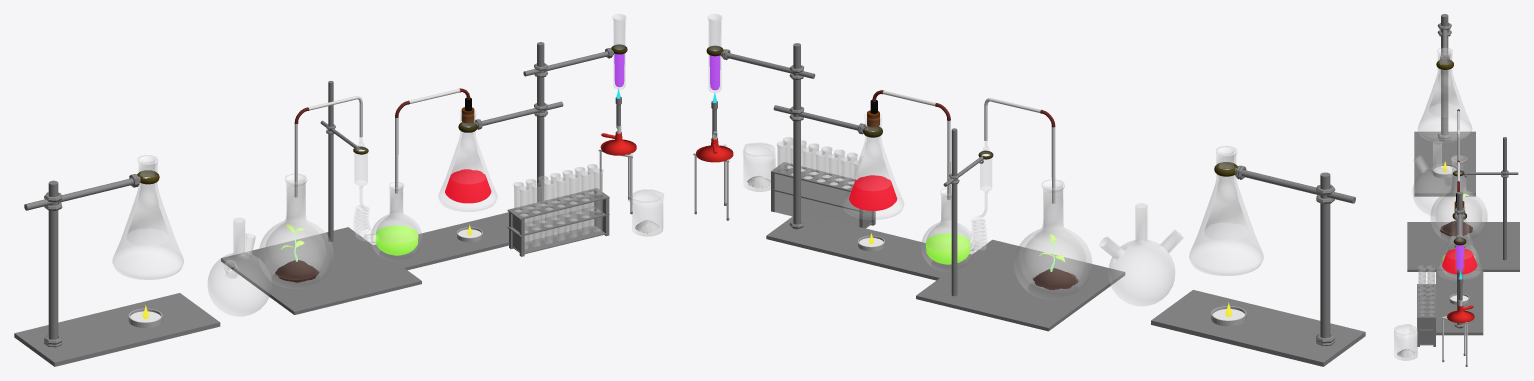
File: Stand.glb
3 views of the same model, side by side, from view 1: azimuth 30°, elevation 25°; view 2: azimuth 150°, elevation 25°; view 3: azimuth 270°, elevation 25° (orthographic). The views are drawn at different scales.
Visible parts, largest first — view 1: Cube.001_54, Cube_55, Sphere.001_31, Cylinder.005_46, Cylinder_50, Sphere.002_30, Cube.002_53, Cube.096_51, Cylinder.134_35, Sphere.006_26, Cylinder.006_45, Cylinder.001_49 (+10 smaller); view 2: Cube.001_54, Cube_55, Sphere.001_31, Cylinder.005_46, Cube.096_51, Sphere.002_30, Cylinder.134_35, Cube.006_52, Sphere.006_26, Cylinder.001_49, Cylinder.006_45, Cylinder.010_41 (+10 smaller); view 3: Cube.001_54, Cube_55, Cylinder.005_46, Cube.096_51, Sphere.001_31, Sphere.002_30, Cylinder.134_35, Cube.002_53, Circle_60, Cylinder.006_45, Cylinder.141_32, Cylinder.003_48 (+15 smaller).
Part boxes in pixels (x1,y1,x2,y2): Cube.001_54: [221, 227, 421, 314]; Cube_55: [14, 293, 220, 366]; Sphere.001_31: [259, 174, 333, 288]; Cylinder.005_46: [112, 155, 183, 279]; Cylinder_50: [519, 168, 603, 250]; Sphere.002_30: [208, 218, 271, 316]; Cube.002_53: [507, 188, 609, 256]; Cube.096_51: [373, 212, 509, 270]; Cylinder.134_35: [438, 110, 497, 211]; Sphere.006_26: [364, 182, 421, 260]; Cylinder.006_45: [48, 180, 58, 339]; Cylinder.001_49: [513, 164, 597, 242]; Cube.001_54: [916, 239, 1125, 331]; Cube_55: [1151, 290, 1365, 366]; Sphere.001_31: [1014, 179, 1091, 298]; Cylinder.005_46: [1189, 146, 1263, 275]; Cube.096_51: [766, 213, 971, 280]; Sphere.002_30: [1100, 203, 1183, 306]; Cylinder.134_35: [842, 114, 903, 219]; Cube.006_52: [774, 173, 859, 226]; Sphere.006_26: [921, 188, 983, 270]; Cylinder.001_49: [777, 141, 861, 188]; Cylinder.006_45: [1320, 172, 1330, 338]; Cylinder.010_41: [870, 90, 1055, 203]; Cube.001_54: [1407, 222, 1519, 271]; Cube_55: [1414, 131, 1475, 196]; Cylinder.005_46: [1418, 47, 1472, 142]; Cube.096_51: [1436, 270, 1483, 335]; Sphere.001_31: [1430, 155, 1487, 240]; Sphere.002_30: [1412, 141, 1451, 215]; Cylinder.134_35: [1437, 203, 1481, 280]; Cube.002_53: [1417, 284, 1436, 346]; Circle_60: [1394, 324, 1417, 360]; Cylinder.006_45: [1441, 14, 1448, 135]; Cylinder.141_32: [1454, 215, 1465, 272]; Cylinder.003_48: [1447, 278, 1474, 322].
Bounding box in the file's own units: 16.53 × 4.83 × 3.81.
